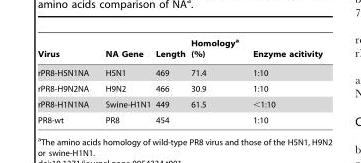table: (36, 36, 322, 124)
table column: (245, 36, 322, 124), (36, 36, 96, 124), (187, 36, 245, 124), (96, 36, 152, 124), (152, 36, 187, 124)
table column header: (36, 36, 322, 63)
table row: (36, 36, 322, 63), (36, 63, 322, 80), (36, 80, 322, 96), (36, 96, 322, 112), (36, 112, 322, 124)
